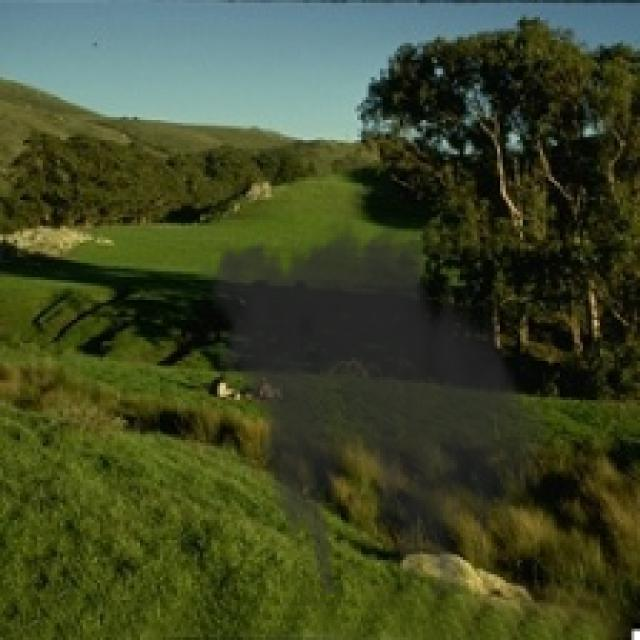Smoke: (191, 208, 560, 594)
